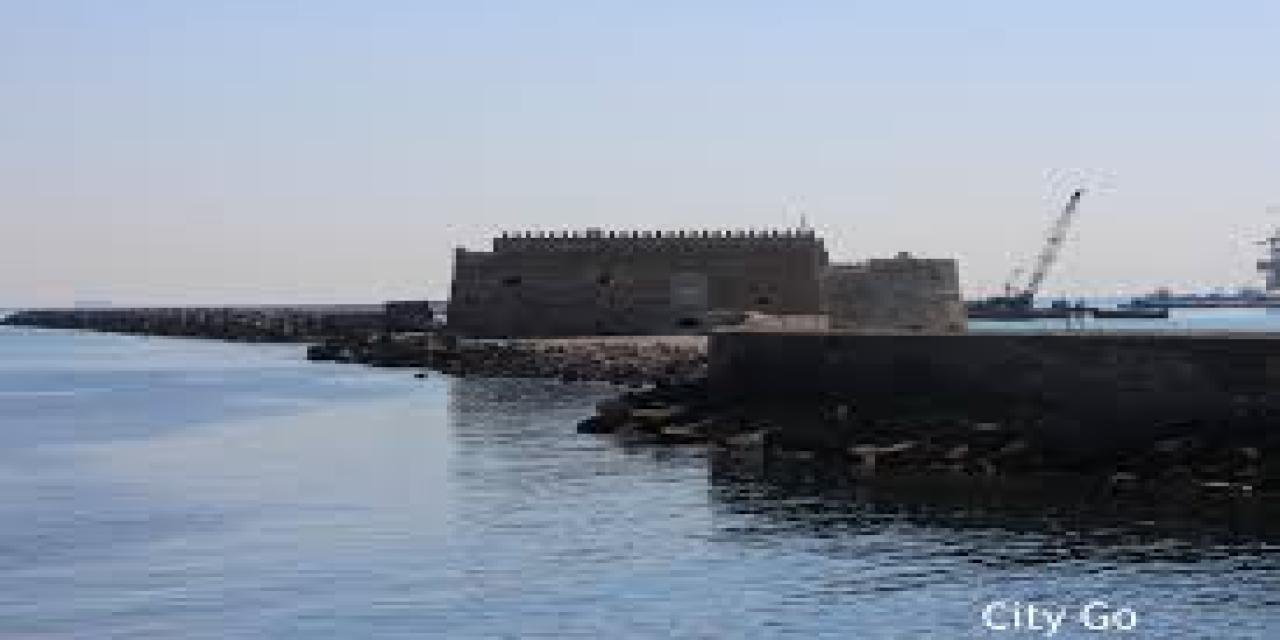Kules: (451, 221, 985, 343)
